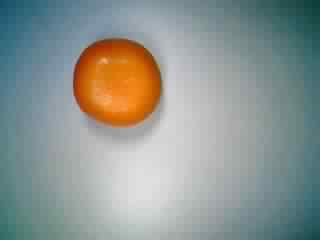orange: (70, 34, 165, 136)
